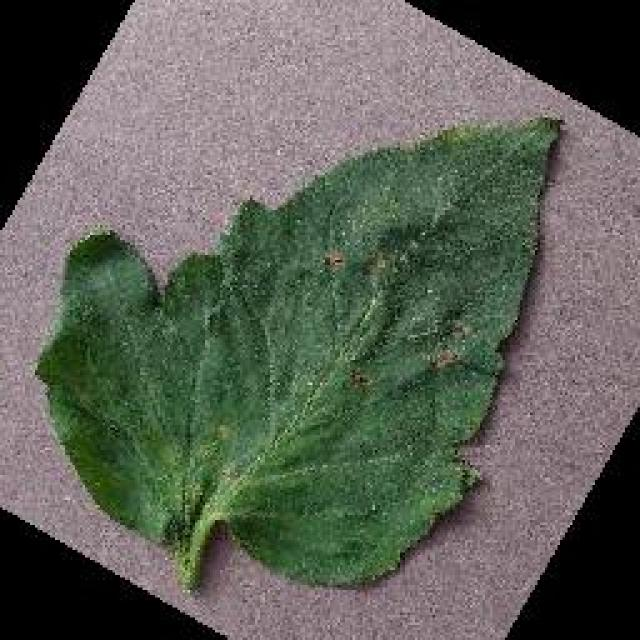Tomato___Target_Spot: (40, 120, 558, 582)
